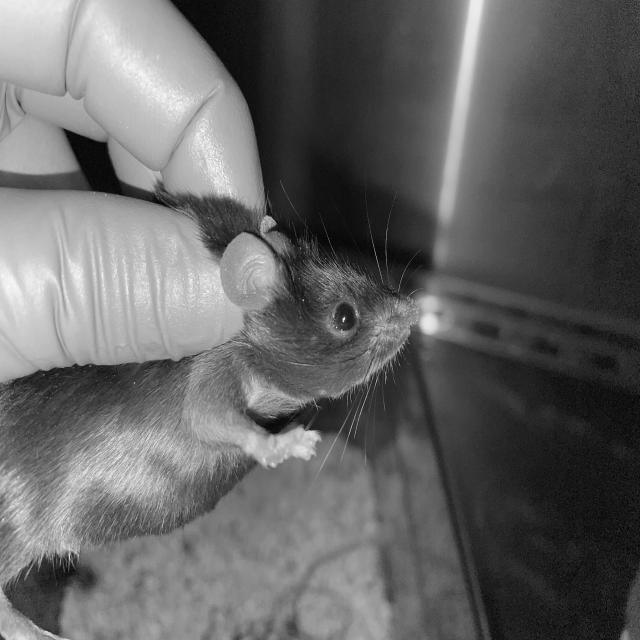Face: (217, 194, 422, 424)
